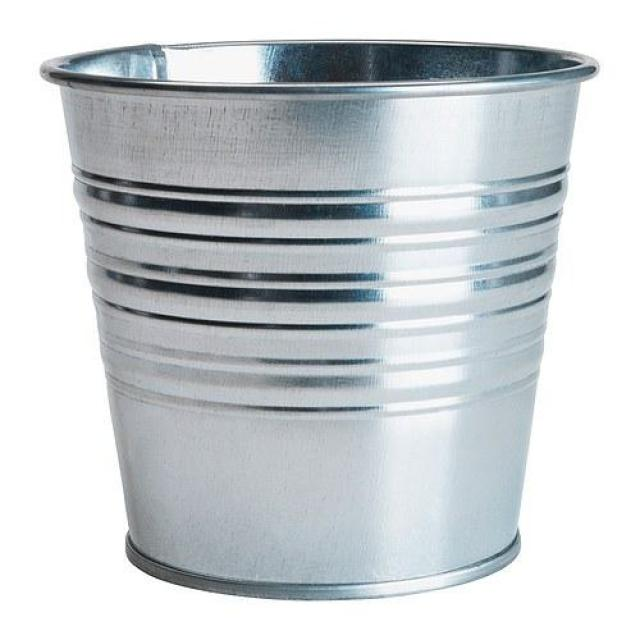plant pot: (40, 38, 600, 603)
